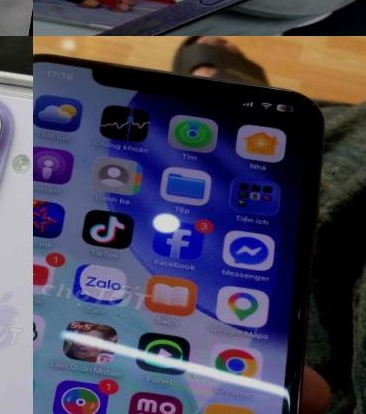scratch: (114, 9, 186, 36)
